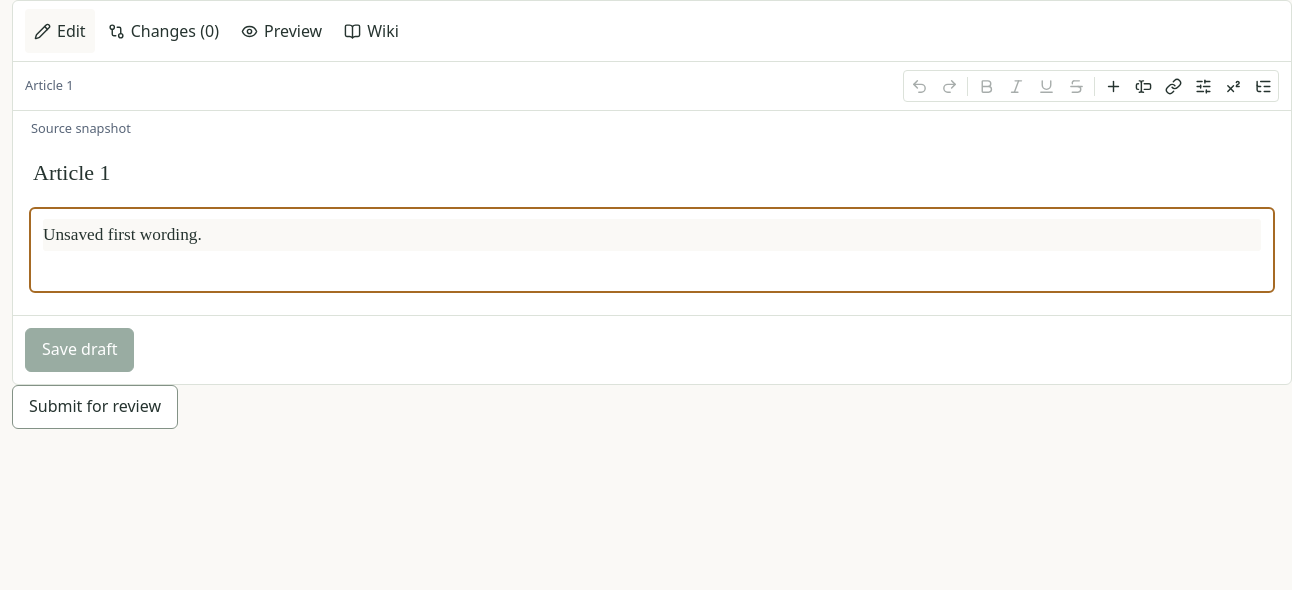
Test: compact structured editor acceptance › loads another root without overwriting local edits and keeps it hydrated through undo
Clear the field named "Constitution text" at (652, 235), box [43,219,1261,251]
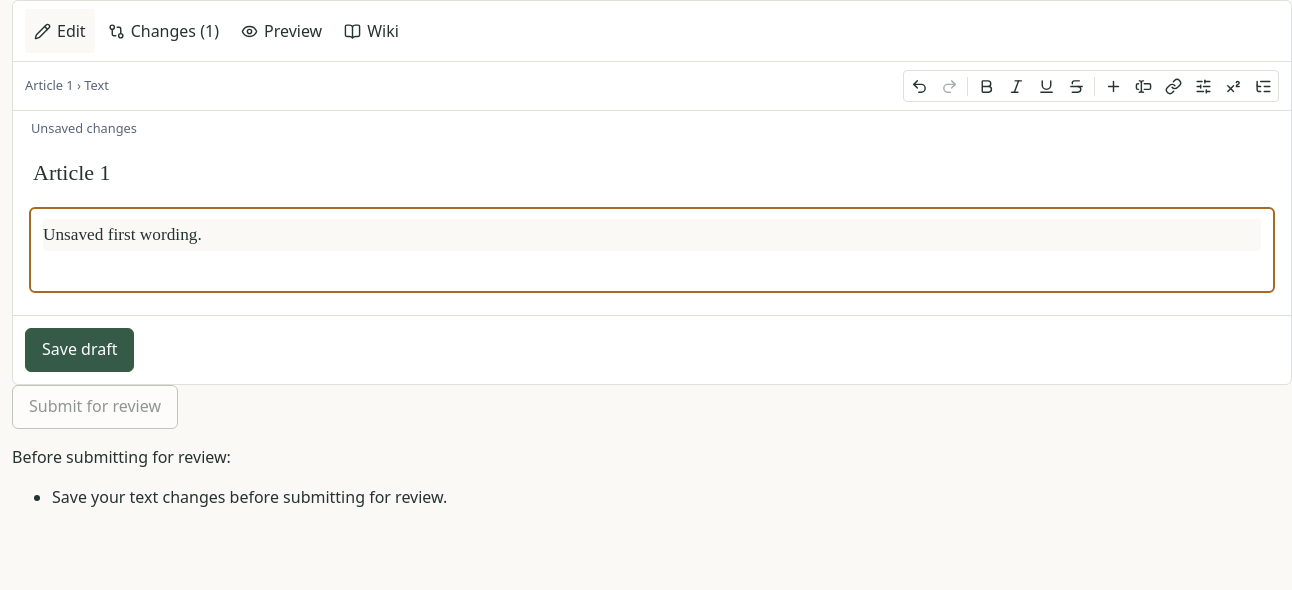
Click the button named "Editor view".
click(1263, 86)  # box [1248,71,1278,101]
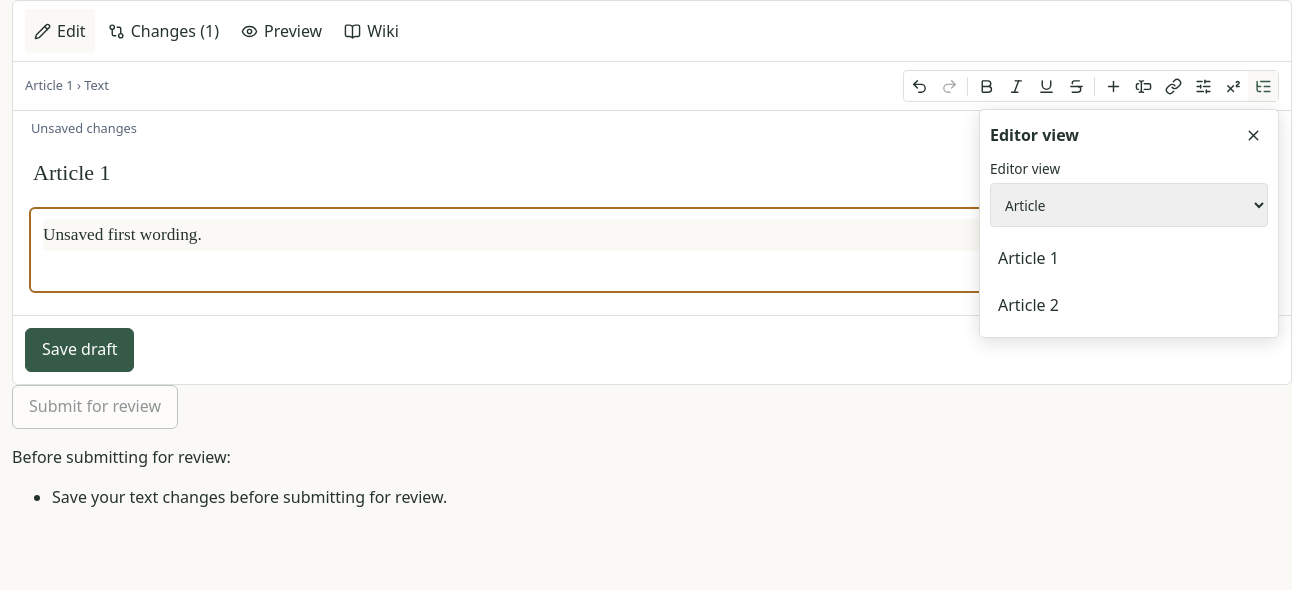
Select "Constitution" in the dropdown labelled "Editor view" at (1129, 205), box [990,183,1268,227]
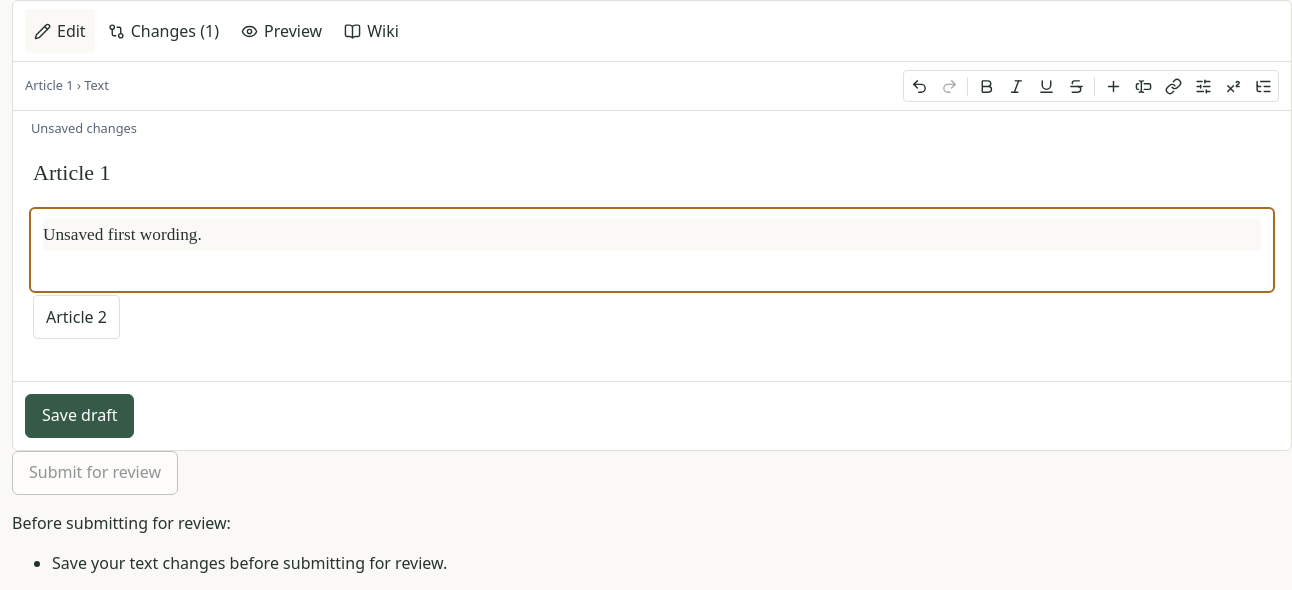
Check: the button "Article 2" is shown
Click the button "Article 2".
click(76, 317)  # box [33,295,120,339]
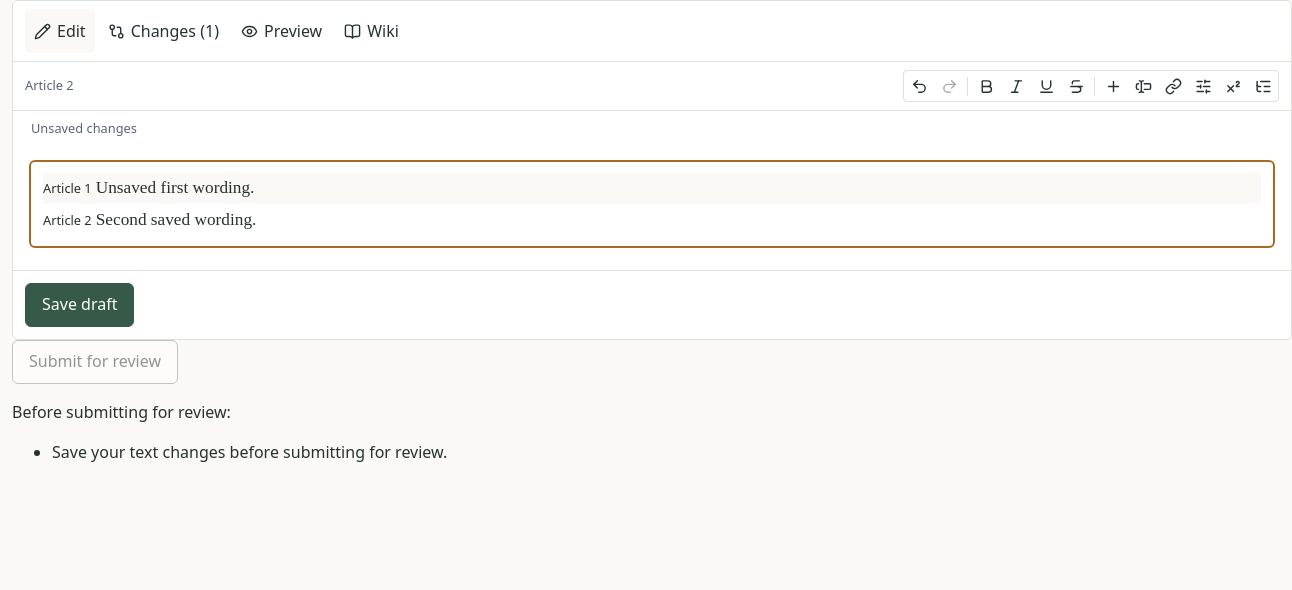
Check: the text "Second saved wording." is shown, box [96,210,256,229]
Click the button named "Undo".
click(919, 86)  # box [904,71,934,101]
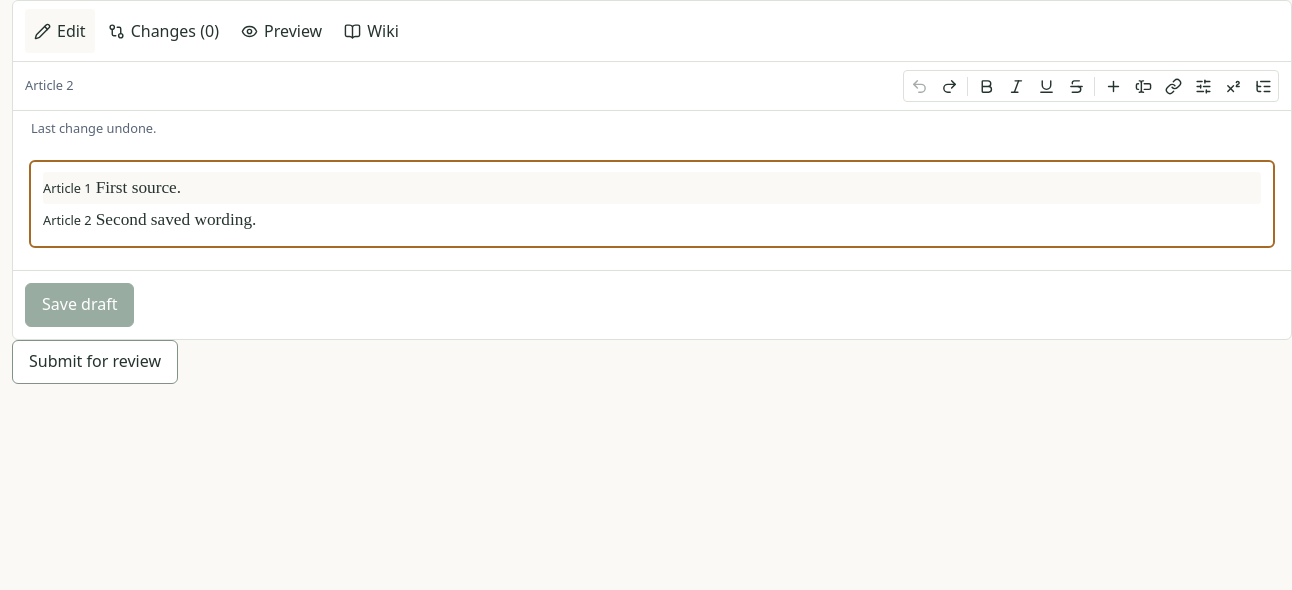
Check: the text "Second saved wording." is shown, box [96,210,256,229]
Check: the text "First source." is shown, box [96,178,181,197]
